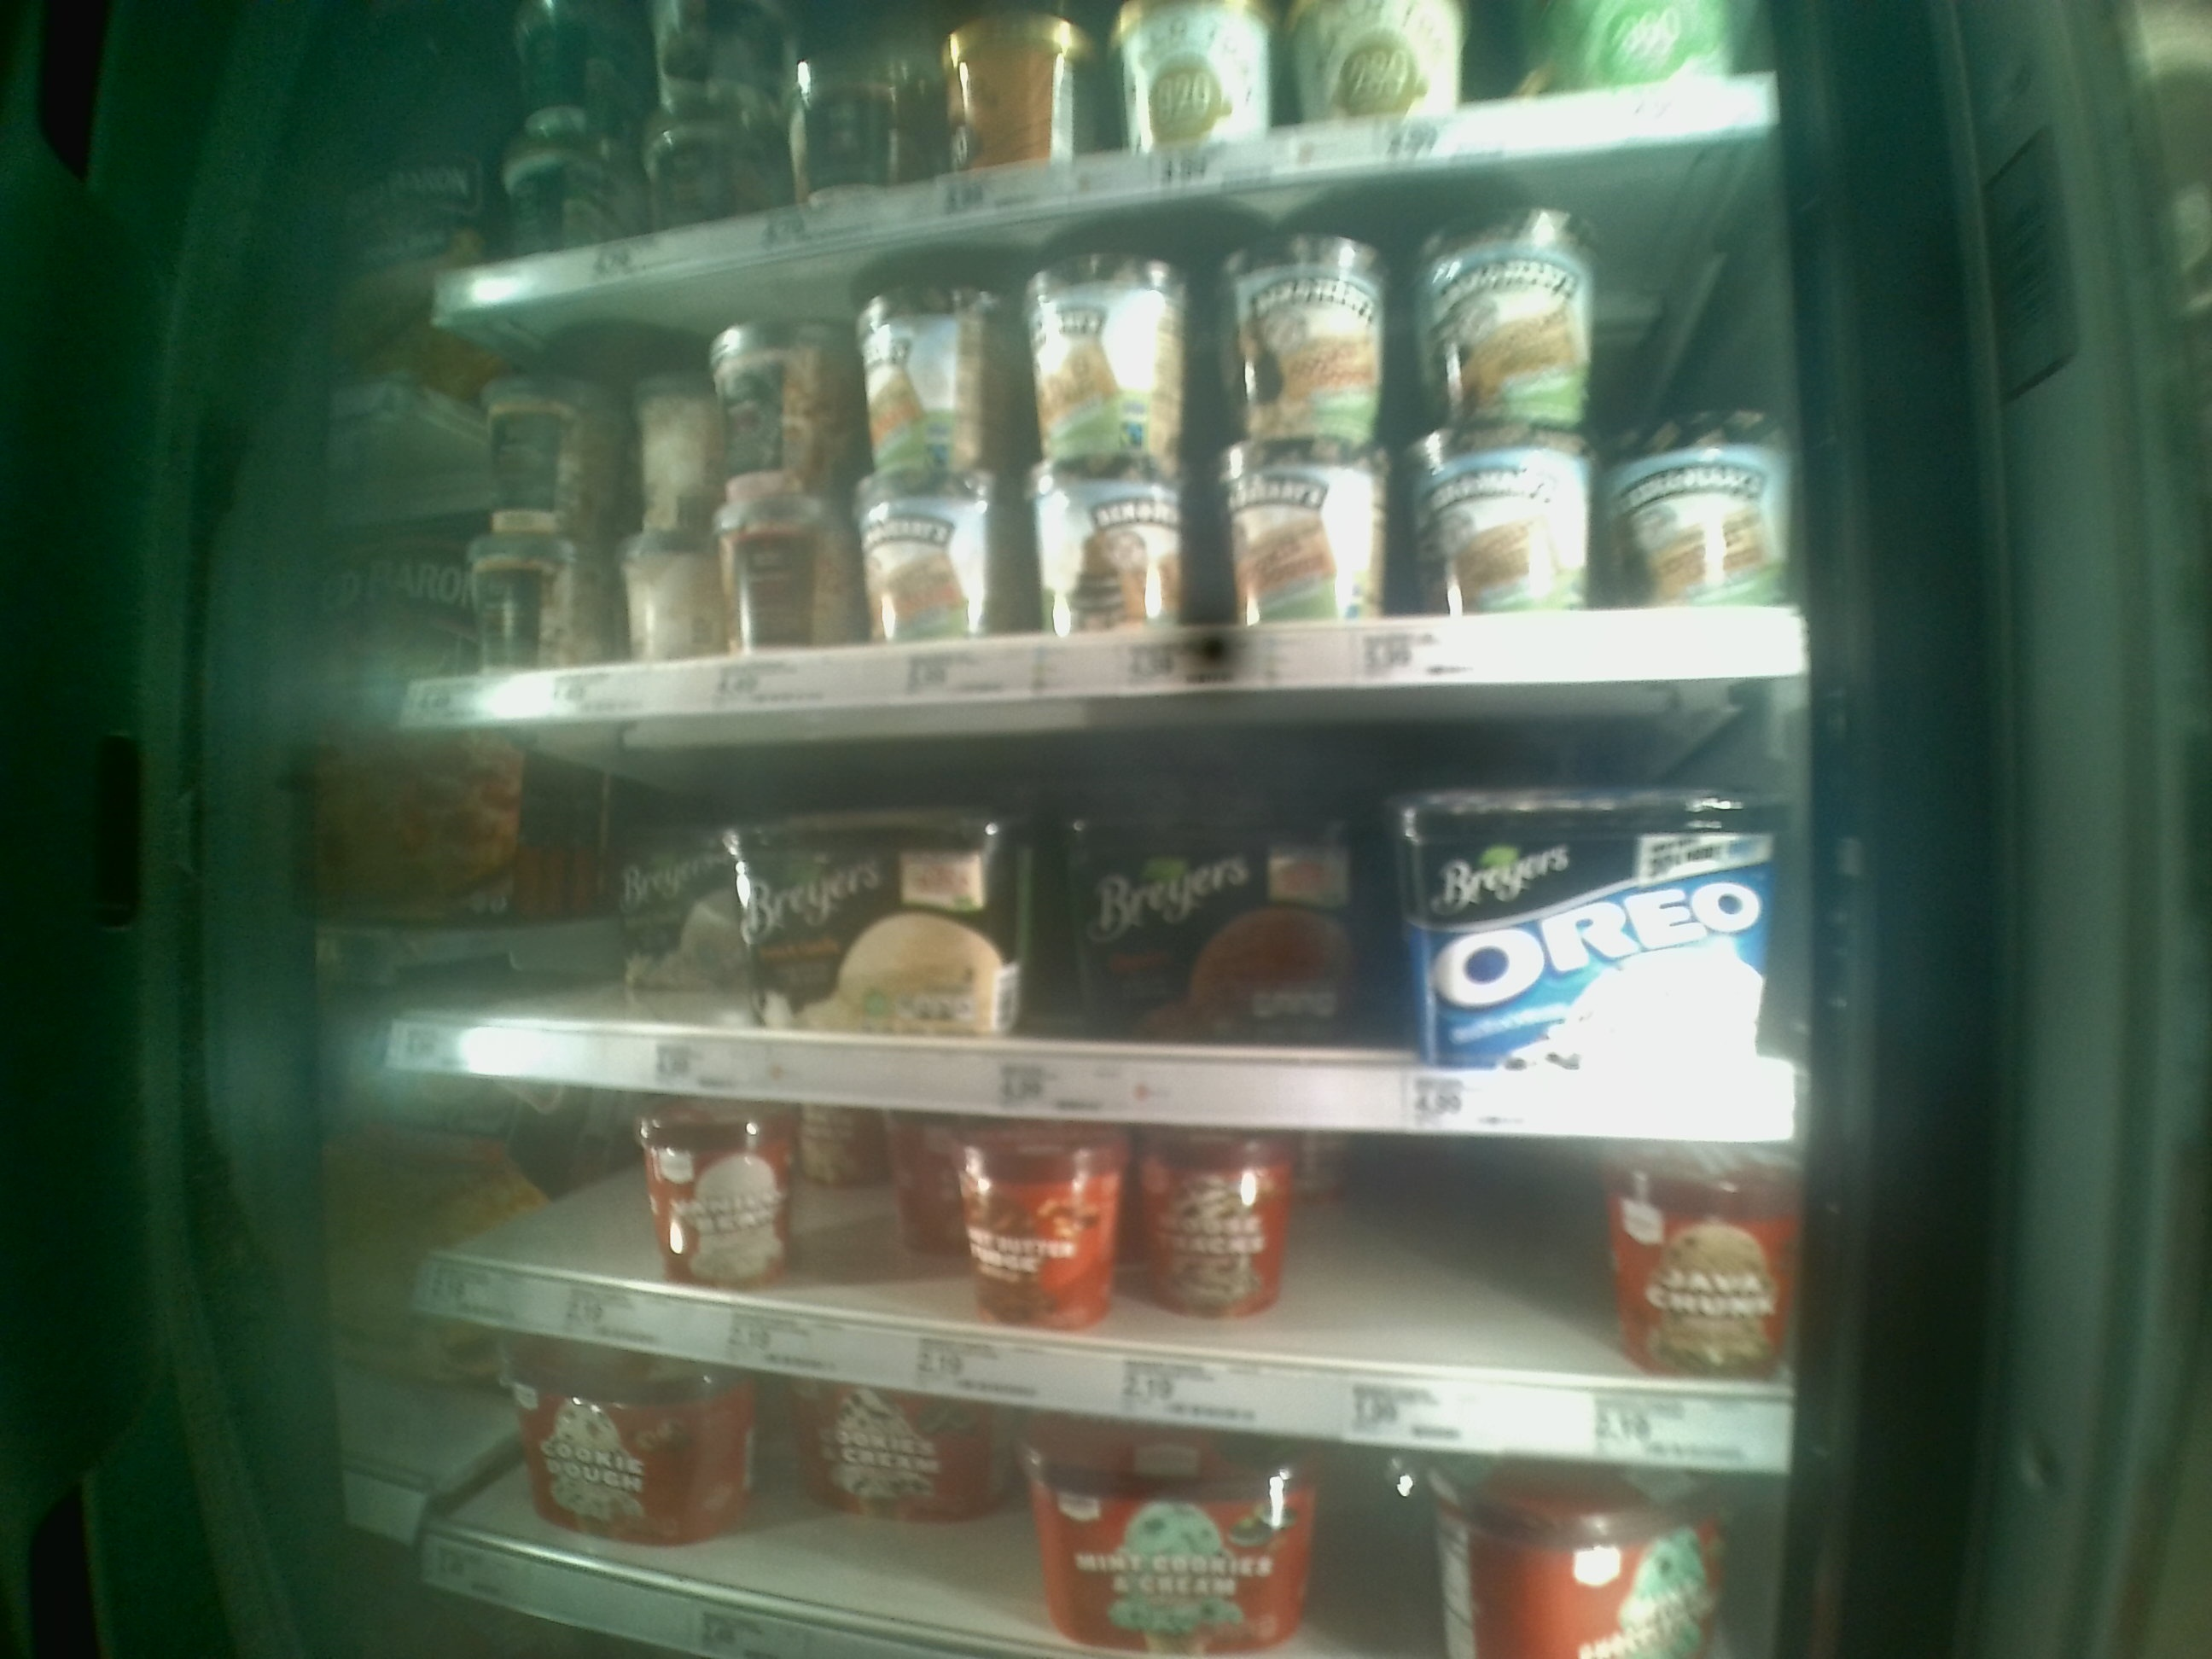shelf: (409, 118, 1794, 721), (404, 681, 1810, 1133), (394, 1068, 1787, 1476)
